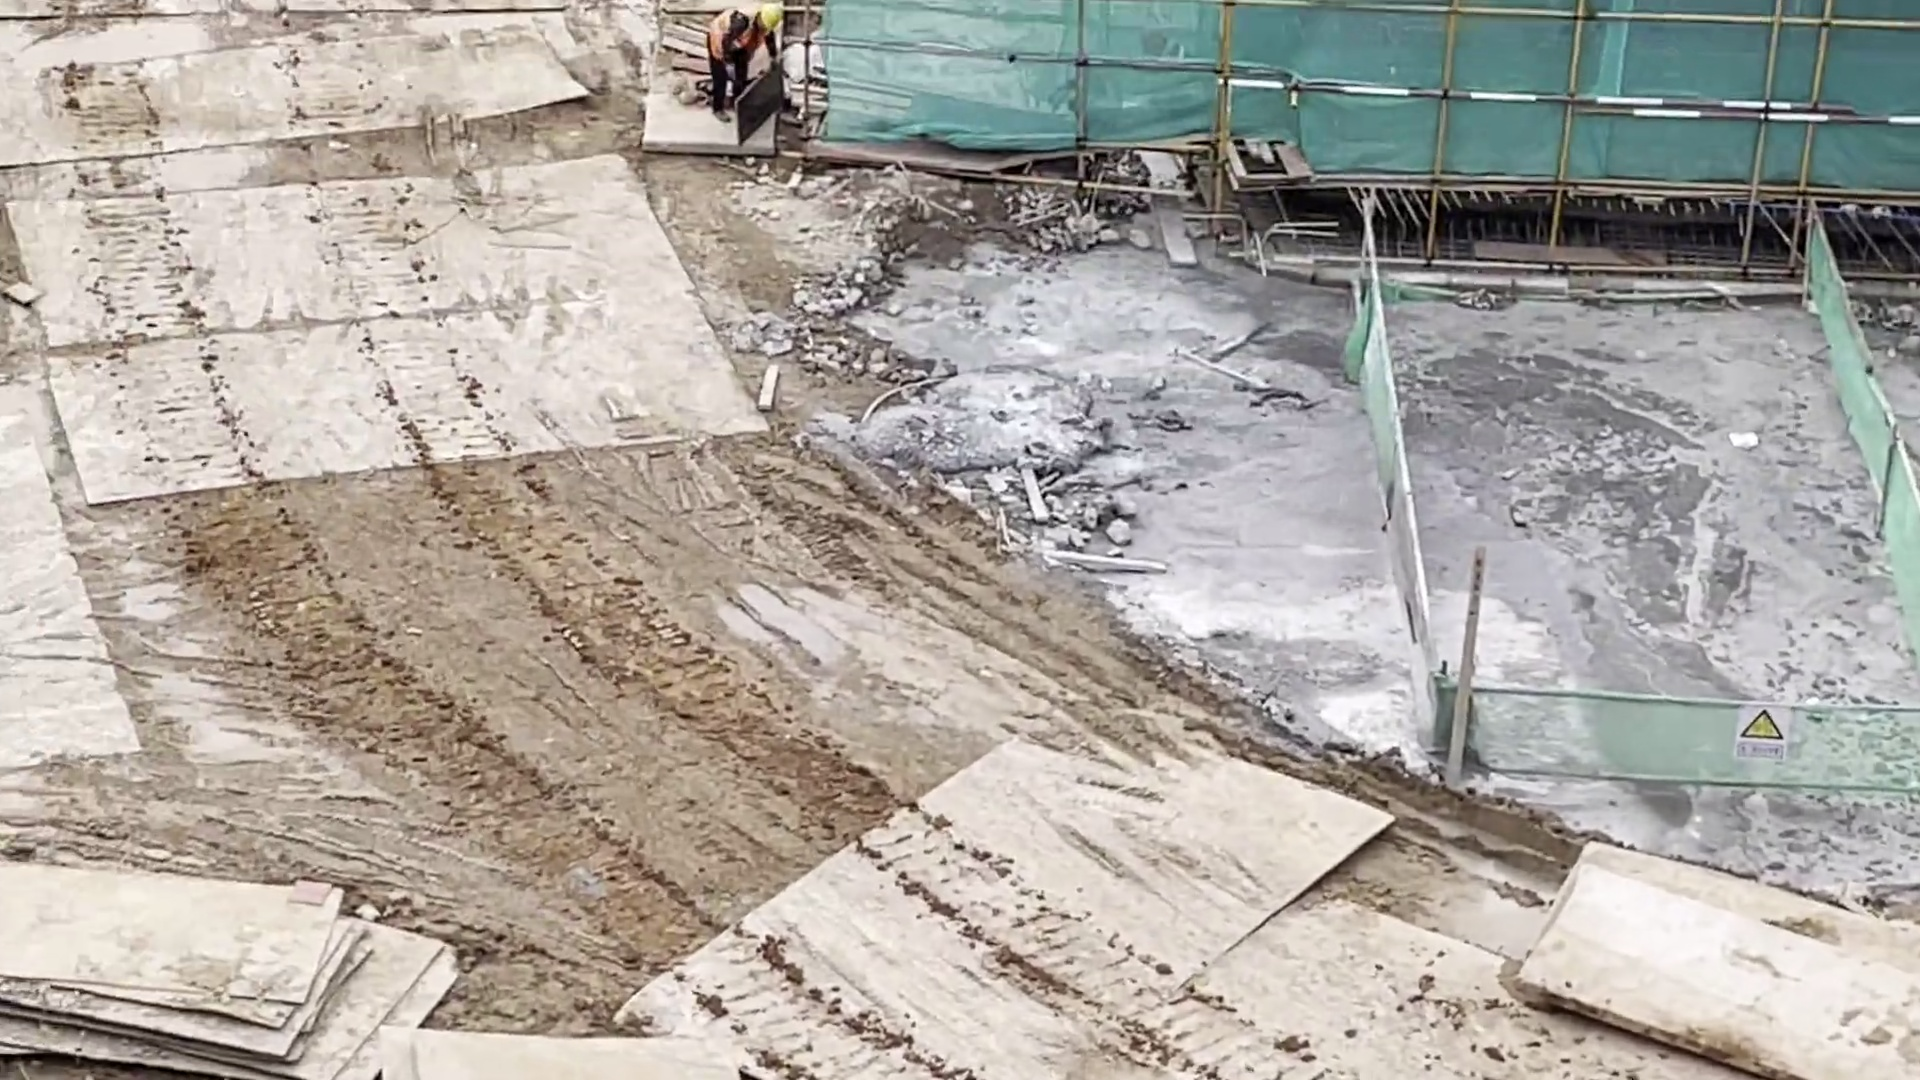helmet: (761, 4, 781, 29)
person: (701, 6, 787, 113)
vest: (713, 7, 756, 57)
